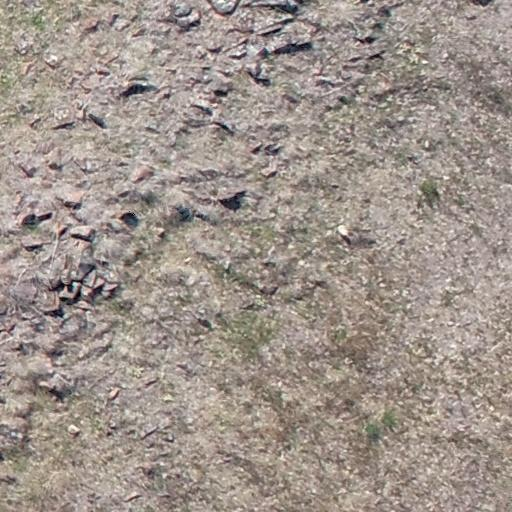stone: (266, 34, 314, 54), (173, 9, 202, 29), (53, 106, 75, 131), (39, 294, 64, 316), (217, 186, 247, 203), (118, 80, 154, 94), (206, 0, 238, 15), (69, 223, 95, 240), (191, 96, 215, 114), (63, 192, 85, 210), (130, 166, 152, 184), (47, 146, 64, 168), (89, 109, 107, 129), (59, 286, 81, 302), (171, 1, 192, 17), (20, 160, 38, 178), (82, 16, 101, 33), (227, 46, 248, 60), (366, 48, 385, 63), (17, 210, 37, 224), (94, 62, 111, 78), (113, 17, 131, 32), (22, 238, 44, 250), (116, 210, 136, 223), (79, 286, 97, 300), (246, 63, 260, 79), (90, 277, 107, 290), (34, 208, 52, 220), (76, 300, 94, 312), (103, 12, 118, 26), (363, 30, 378, 44), (140, 377, 159, 388), (347, 52, 362, 65), (208, 41, 224, 53), (104, 53, 120, 64), (132, 25, 144, 39), (262, 168, 278, 178), (108, 387, 120, 400), (104, 282, 118, 292), (196, 46, 206, 60), (69, 425, 81, 436), (19, 63, 30, 75), (22, 312, 38, 320), (139, 428, 148, 440), (157, 226, 166, 236)
